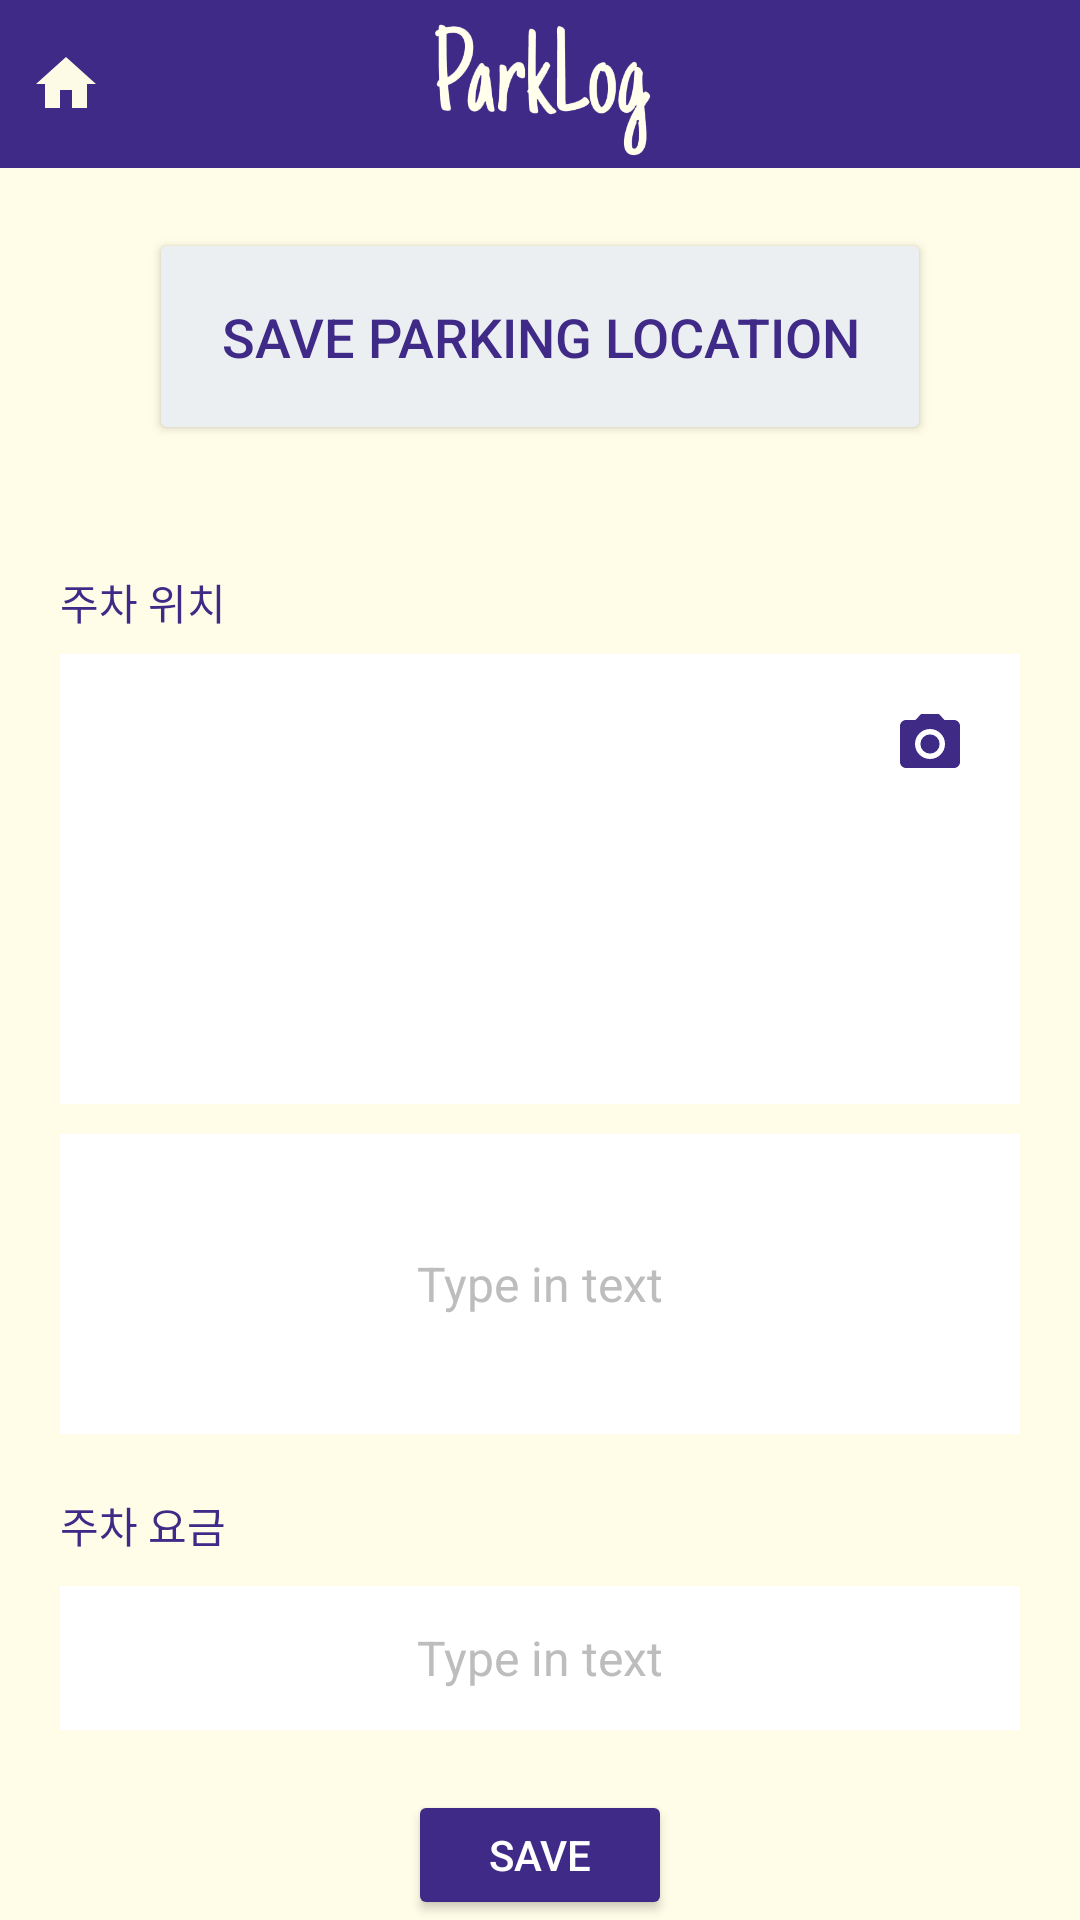

Screen size 1080 × 1920. Icon name, then its box in pixels as (x1, y1, x2, y2):
Home Icon: (36, 57, 96, 108)
Open Camera Button: (900, 714, 960, 768)
